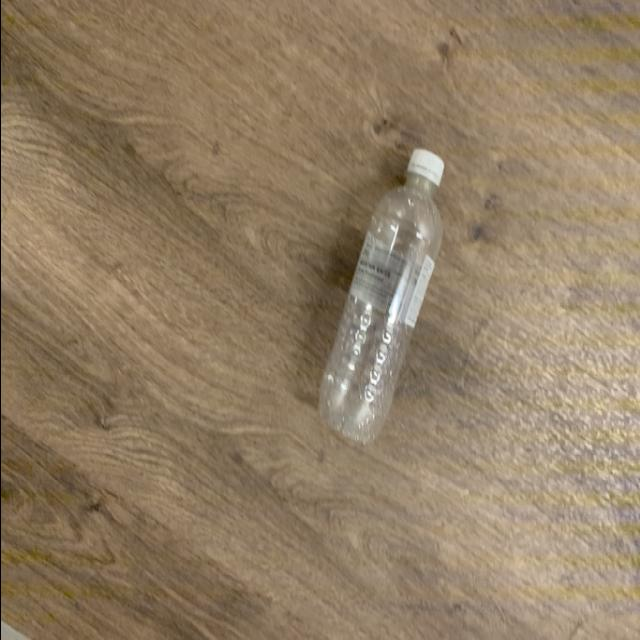PET: (310, 152, 440, 454)
